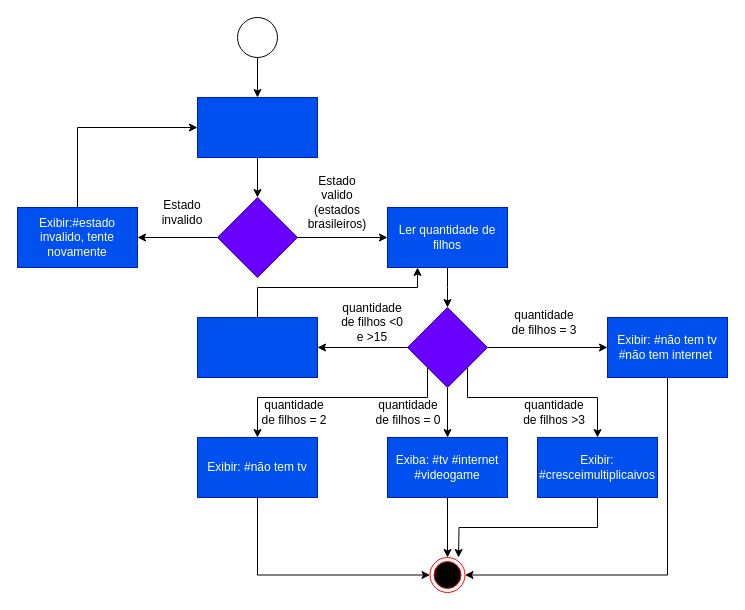
This 745x610 diagram has some shape labels left out. The centre of each missing label's shape, as x and y in pixels:
Exibir: #quantidade invalida, tente novamente: (x=257, y=347)
Ler estado onde nasceu: (x=257, y=127)
